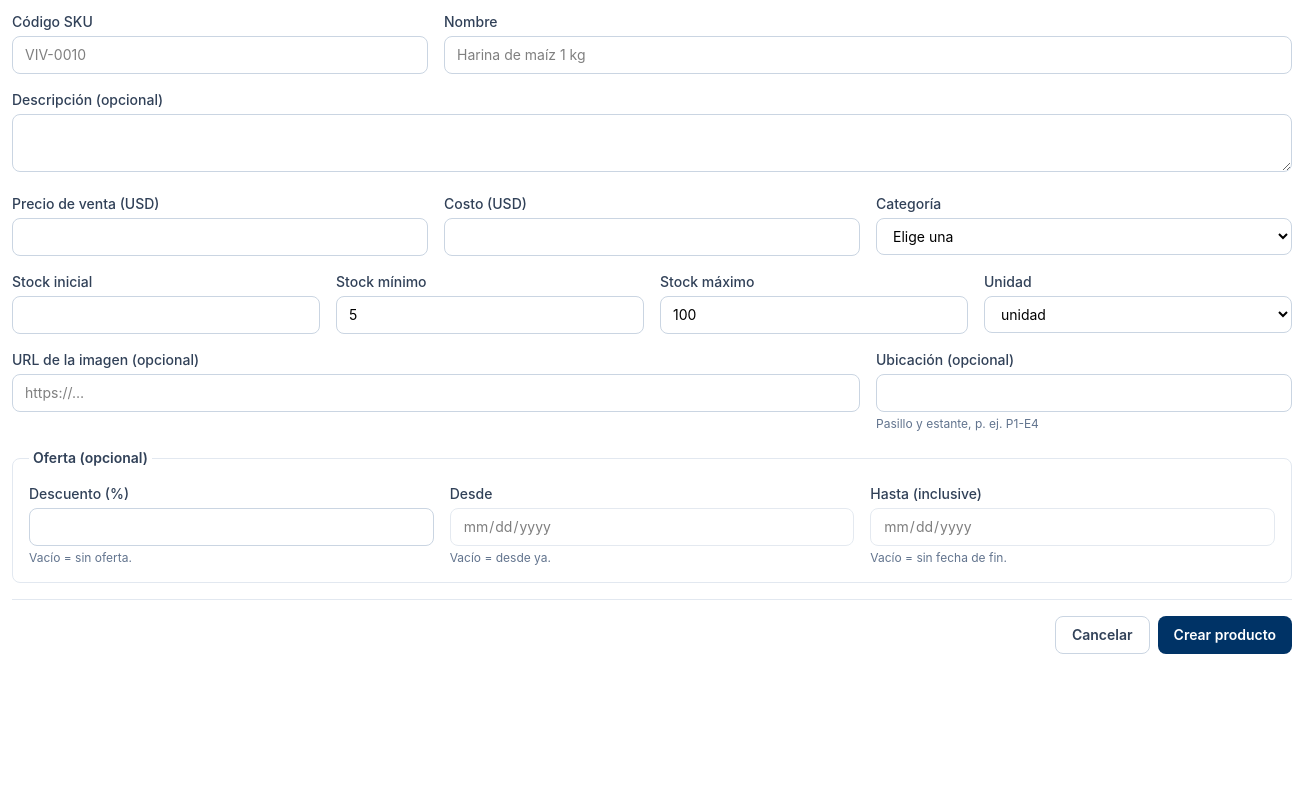
Test case: FormularioProducto: validaciones › el error de un campo desaparece al corregirlo
Click the button "Crear producto".
click(1225, 635)  # box [1158, 616, 1292, 654]
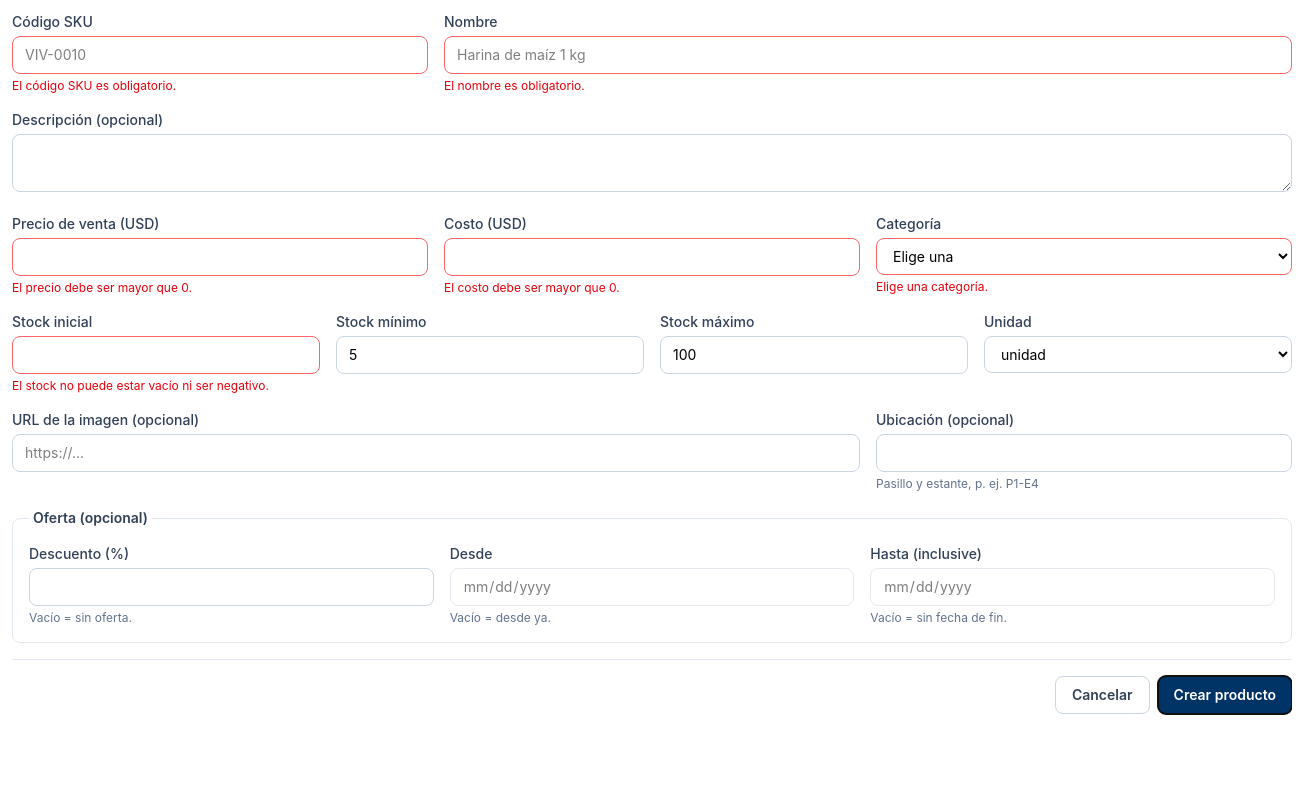
Expected: the text "El nombre es obligatorio." is shown, [444, 78, 585, 93]
Type "Arroz" into the field labelled "Nombre".
click(868, 55); type("Arroz")  # box [444, 36, 1292, 74]
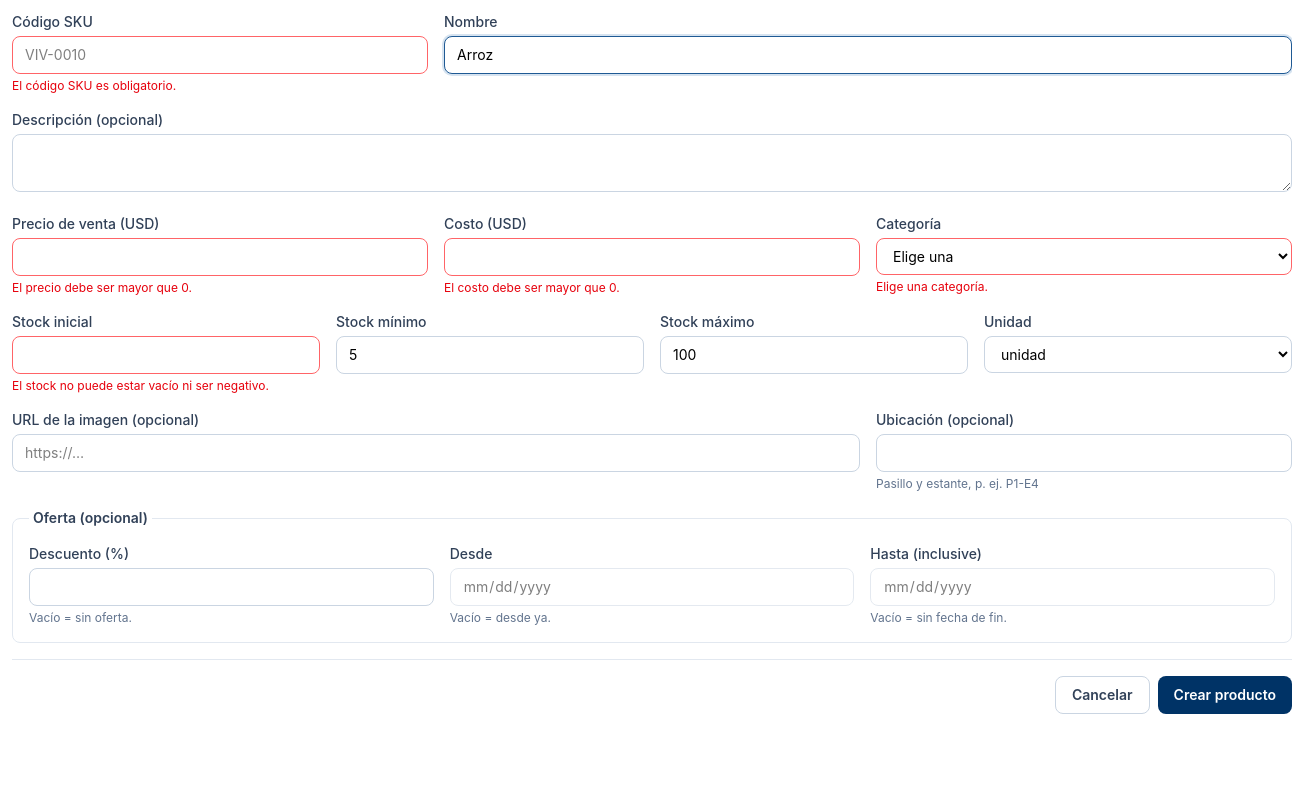
Expected: the text "El nombre es obligatorio." is gone
